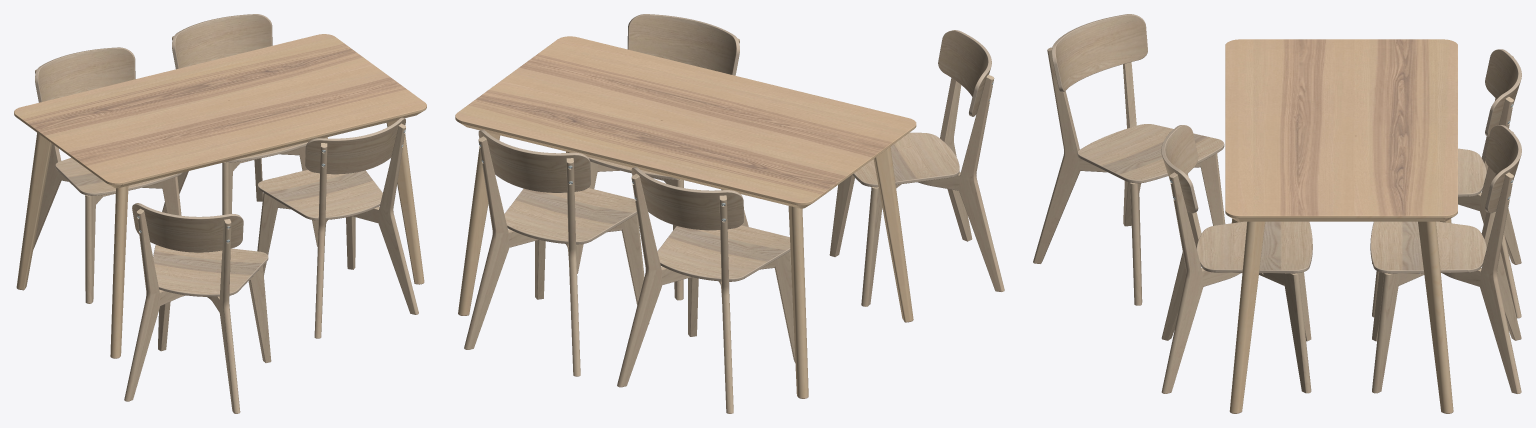
3 views of the same model, side by side, from view 1: azimuth 30°, elevation 25°; view 2: azimuth 150°, elevation 25°; view 3: azimuth 270°, elevation 25° (orthographic). The views are drawn at different scales.
Size of the model in its own units: 1.53 by 0.8046 by 1.64.
Materials: 1 (1 with a texture image).
